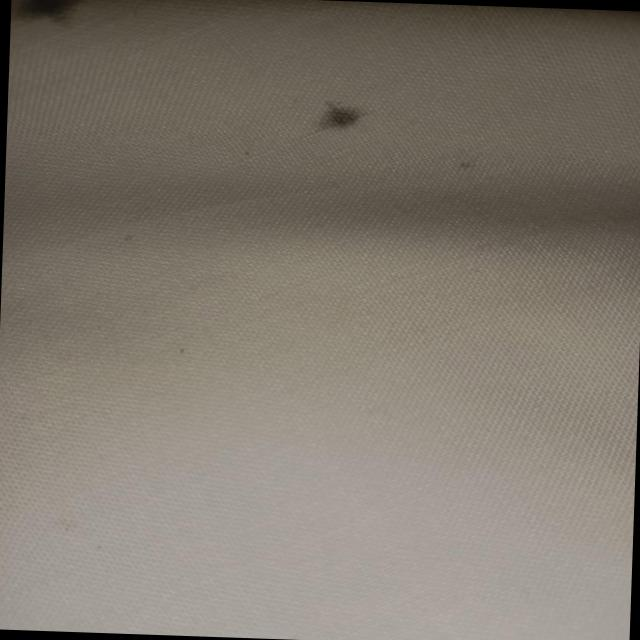stain: (292, 81, 388, 152), (10, 0, 96, 35), (436, 141, 494, 191)
